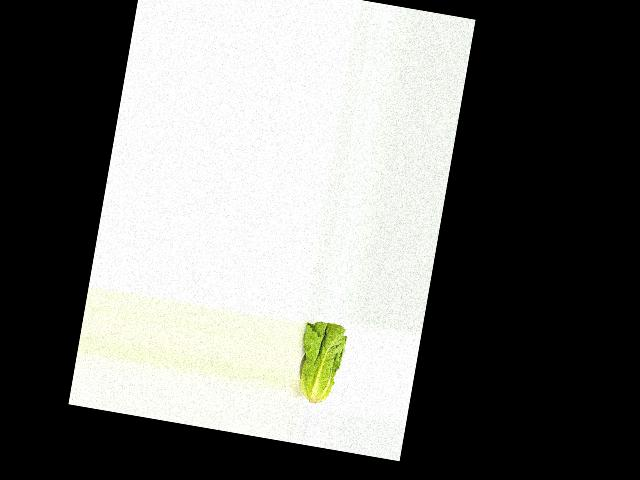lettuce: (292, 318, 350, 407)
